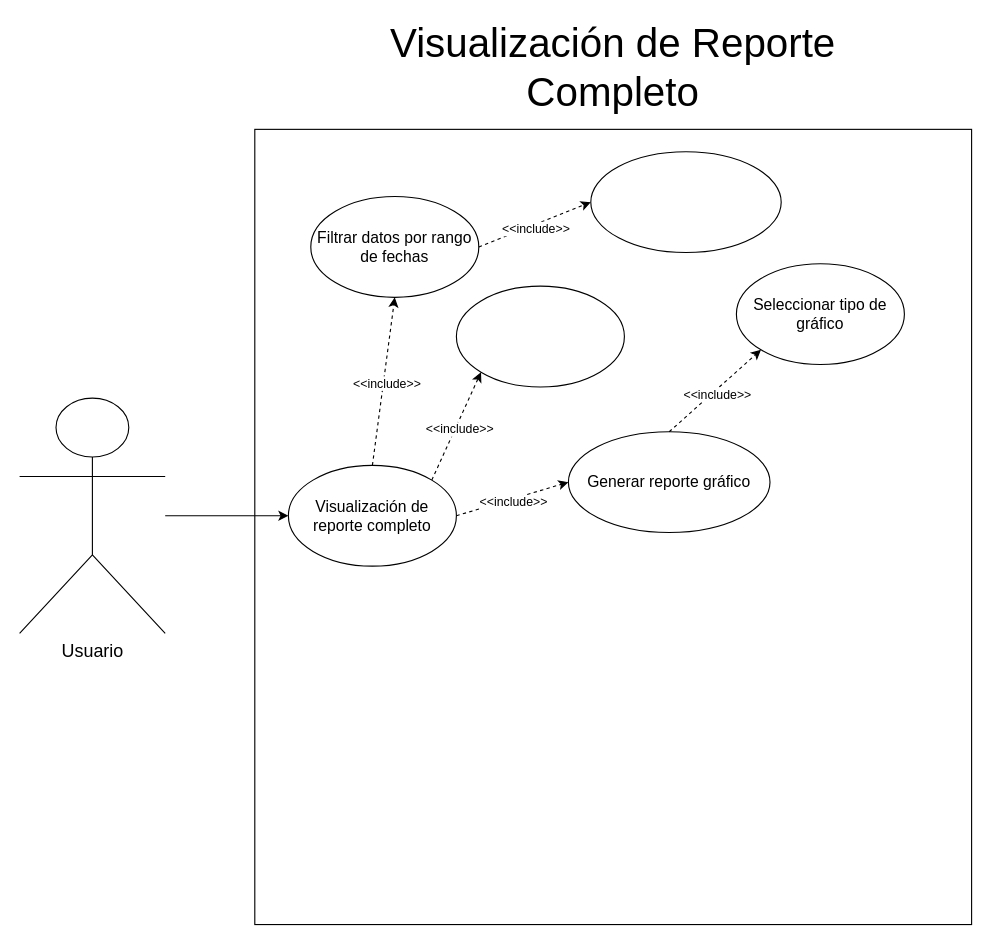
This 991x944 diagram has some shape labels left out. Each missing label, with the centre of its shape:
Seleccionar tipo de reporte: (x=539, y=336)
Validar rango de fechas: (x=685, y=202)
